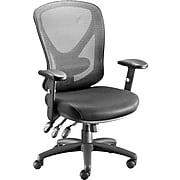chair: (24, 2, 150, 180)
